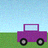vehicle: (17, 24, 47, 46)
